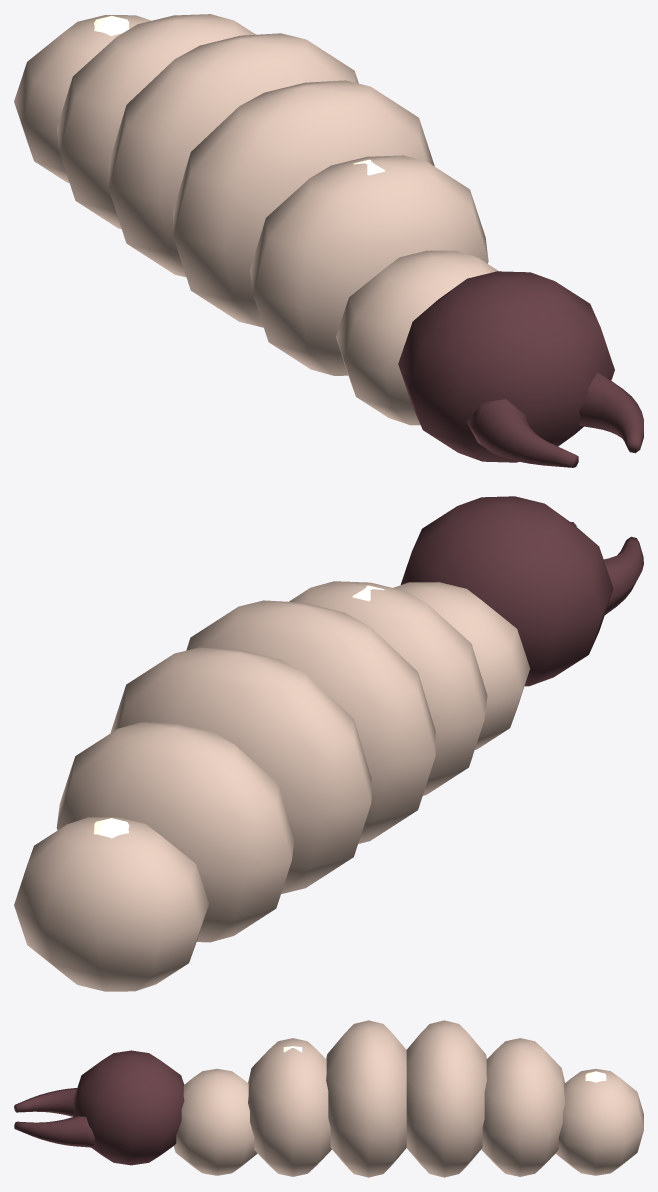
File: Maggot.fbx
3 renders of one model, top to bottom at view 1: azimuth 30°, elevation 25°; view 2: azimuth 150°, elevation 25°; view 3: azimuth 270°, elevation 25°, orthographic. The views are drawn at different scales.
Visible parts, largest first — view 1: MaggotBody, MaggotDark, MaggotGlow; view 2: MaggotBody, MaggotDark, MaggotGlow; view 3: MaggotBody, MaggotDark, MaggotGlow.
Part boxes in pixels (x1,y1,x2,y2): MaggotBody: [14, 14, 498, 425]; MaggotDark: [398, 271, 643, 467]; MaggotGlow: [94, 16, 385, 175]; MaggotBody: [14, 581, 530, 991]; MaggotDark: [400, 496, 643, 686]; MaggotGlow: [94, 585, 384, 838]; MaggotBody: [173, 1020, 643, 1177]; MaggotDark: [14, 1050, 184, 1165]; MaggotGlow: [283, 1046, 606, 1082].
Size of the model in its own units: 0.1773 by 0.1521 by 0.6237.
